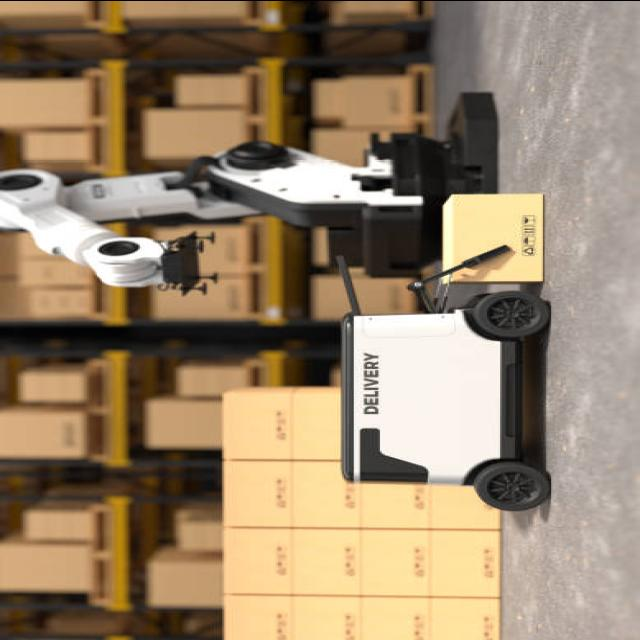Robotic-arm: (0, 108, 426, 300)
